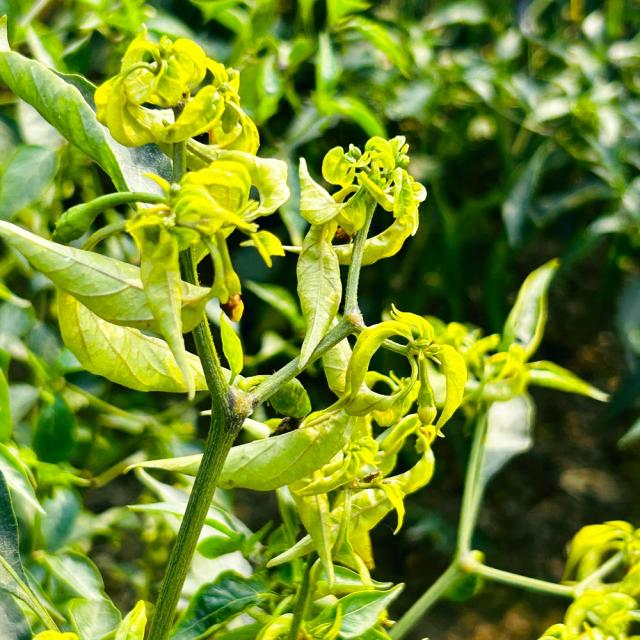Chilli_Leaf_Curl: (1, 16, 471, 638), (1, 18, 290, 400), (0, 13, 175, 204), (0, 218, 211, 332), (92, 25, 250, 153), (125, 408, 354, 492), (54, 286, 211, 398), (296, 133, 427, 266), (342, 304, 468, 439)
